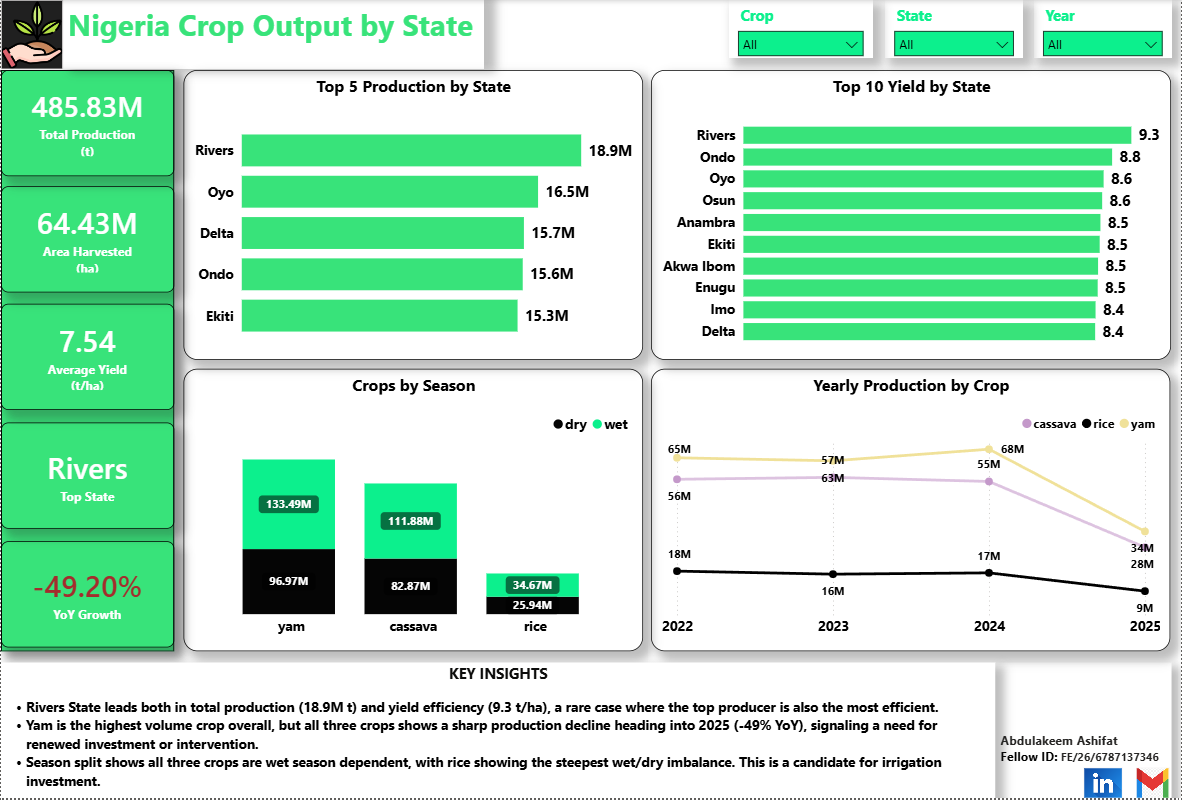

The page's visual inventory and layout, read from the dashboard file:
{"tool":"powerbi","page":{"name":"Page 1","canvas":[1280,866],"ordinal":0},"visuals":[{"type":"textbox","box":[1078.8,718.2,190,148.1],"z":0},{"type":"shape","box":[0,75.9,187.8,630.7],"z":1000},{"type":"cardVisual","fields":{"Data":["measure table.area harvested"]},"box":[0,201.7,188,115],"z":2000},{"type":"cardVisual","fields":{"Data":["measure table.average yield"]},"box":[0,329.3,188,115],"z":3000},{"type":"cardVisual","fields":{"Data":["measure table.Top State"]},"box":[0,458.3,188,115],"z":4000},{"type":"cardVisual","fields":{"Data":["measure table.YoY Growth"]},"box":[0,587.3,188,115],"z":5000},{"type":"clusteredBarChart","title":"Top 10 Yield by State","fields":{"Category":["nigerian_agriculture_season (2).state"],"Y":["measure table.average yield"]},"box":[705.3,75.5,564,314.2],"z":6000},{"type":"cardVisual","fields":{"Data":["measure table.total production"]},"box":[0,75.5,188,115],"z":7000},{"type":"clusteredBarChart","title":"Top 5 Production by State","fields":{"Category":["nigerian_agriculture_season (2).state"],"Y":["measure table.total production"]},"box":[197.6,75.5,498,314.2],"z":8000},{"type":"lineChart","title":"Yearly Production by Crop ","fields":{"Category":["nigerian_agriculture_season (2).year"],"Y":["measure table.total production"],"Series":["nigerian_agriculture_season (2).crop"]},"box":[705.3,400.6,563.5,306],"z":9000},{"type":"columnChart","title":"Crops by Season ","fields":{"Y":["measure table.total production"],"Series":["nigerian_agriculture_season (2).season"],"Category":["nigerian_agriculture_season (2).crop"]},"box":[197.8,400.6,498,306],"z":10000},{"type":"slicer","fields":{"Values":["nigerian_agriculture_season (2).crop"]},"box":[789,0,156.4,62],"z":11000},{"type":"slicer","fields":{"Values":["nigerian_agriculture_season (2).year"]},"box":[1119.7,0,150,62],"z":12000},{"type":"slicer","fields":{"Values":["nigerian_agriculture_season (2).state"]},"box":[957.8,0,150,62],"z":13000},{"type":"textbox","box":[67.3,0,456.3,74.8],"z":14000},{"type":"image","box":[0,0,67.2,75.5],"z":15000},{"type":"textbox","title":"KEY INSIGHTS","box":[0,718.2,1078.8,148.1],"z":16000},{"type":"image","box":[1174.5,831.9,42.6,33.8],"z":17000},{"type":"image","box":[1231.4,831.9,36.7,33.8],"z":18000}]}

Visuals, with their boxes in screenshot pixels (x1, y1, x2, y2), scaled from the page's 1280x866 canvas onto the 1182x802 screenshot:
textbox: bbox=[996, 665, 1172, 801]
shape: bbox=[0, 70, 173, 654]
cardVisual - measure table.area harvested: bbox=[0, 187, 174, 293]
cardVisual - measure table.average yield: bbox=[0, 305, 174, 411]
cardVisual - measure table.Top State: bbox=[0, 424, 174, 531]
cardVisual - measure table.YoY Growth: bbox=[0, 544, 174, 650]
"Top 10 Yield by State" clusteredBarChart: bbox=[651, 70, 1172, 361]
cardVisual - measure table.total production: bbox=[0, 70, 174, 176]
"Top 5 Production by State" clusteredBarChart: bbox=[182, 70, 642, 361]
"Yearly Production by Crop " lineChart: bbox=[651, 371, 1172, 654]
"Crops by Season " columnChart: bbox=[183, 371, 643, 654]
slicer - nigerian_agriculture_season (2).crop: bbox=[729, 0, 873, 57]
slicer - nigerian_agriculture_season (2).year: bbox=[1034, 0, 1172, 57]
slicer - nigerian_agriculture_season (2).state: bbox=[884, 0, 1023, 57]
textbox: bbox=[62, 0, 484, 69]
image: bbox=[0, 0, 62, 70]
"KEY INSIGHTS" textbox: bbox=[0, 665, 996, 801]
image: bbox=[1085, 770, 1124, 801]
image: bbox=[1137, 770, 1171, 801]
